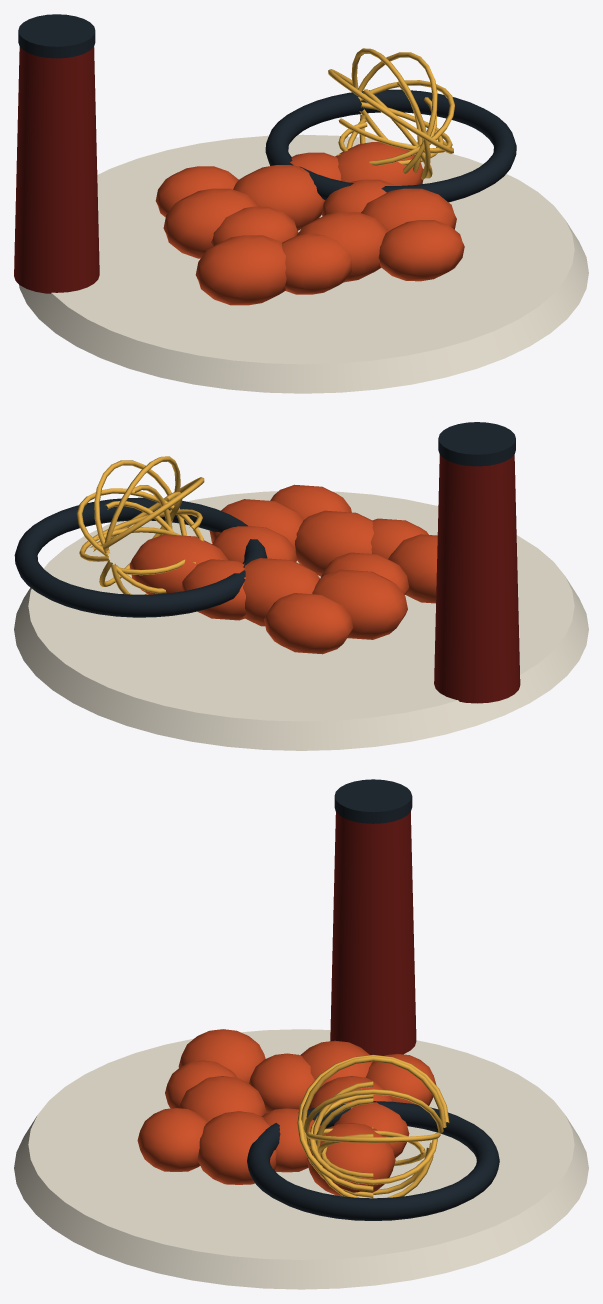
File: campaign-4.glb
The picture shows the model from 3 angles, top to bottom: view 1: azimuth 30°, elevation 25°; view 2: azimuth 150°, elevation 25°; view 3: azimuth 270°, elevation 25°; orthographic projection.
Size of the model in its own units: 0.4 by 0.2065 by 0.4.
